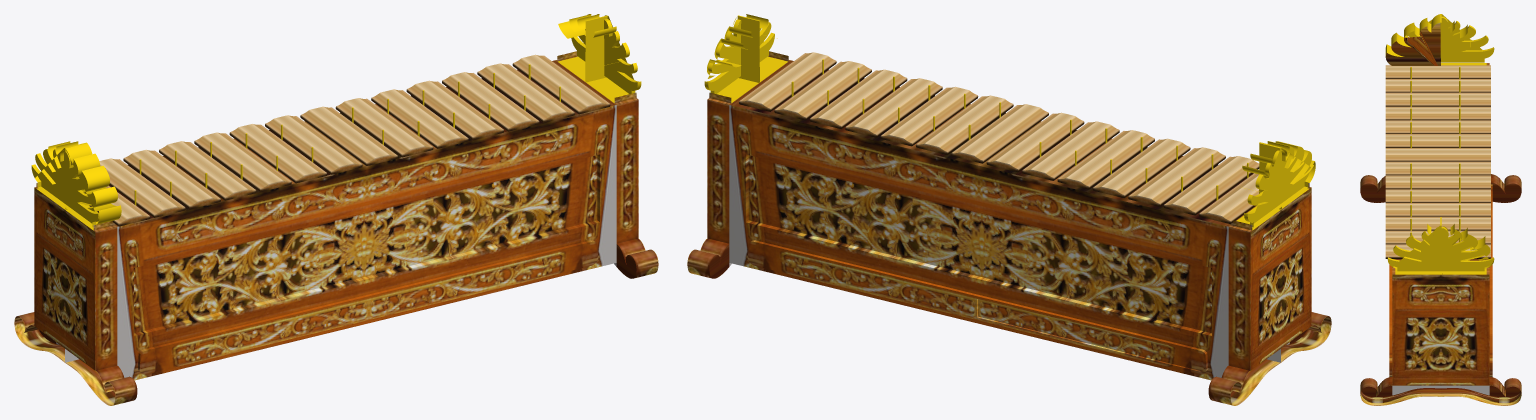
The model's file is gender_barung.glb.
3 views of the same model, side by side, from view 1: azimuth 30°, elevation 25°; view 2: azimuth 150°, elevation 25°; view 3: azimuth 270°, elevation 25° (orthographic). The views are drawn at different scales.
Parts seen in each view (by area): view 1: GenderBarung_02_Slenthem, GenderBarung_03_Slenthem2, GenderBarung_00_Slenthem_1, GenderBarung_04_Slenthem4; view 2: GenderBarung_02_Slenthem, GenderBarung_03_Slenthem2, GenderBarung_00_Slenthem_1, GenderBarung_04_Slenthem4; view 3: GenderBarung_02_Slenthem, GenderBarung_04_Slenthem4, GenderBarung_00_Slenthem_1, GenderBarung_03_Slenthem2.
Part boxes in pixels (<box>): GenderBarung_02_Slenthem: <box>56,54,616,380</box>; GenderBarung_03_Slenthem2: <box>14,51,658,405</box>; GenderBarung_00_Slenthem_1: <box>31,14,641,230</box>; GenderBarung_04_Slenthem4: <box>34,187,95,370</box>; GenderBarung_02_Slenthem: <box>729,52,1289,380</box>; GenderBarung_03_Slenthem2: <box>687,51,1331,405</box>; GenderBarung_00_Slenthem_1: <box>704,14,1315,230</box>; GenderBarung_04_Slenthem4: <box>1250,187,1311,370</box>; GenderBarung_02_Slenthem: <box>1385,65,1492,395</box>; GenderBarung_04_Slenthem4: <box>1392,274,1489,385</box>; GenderBarung_00_Slenthem_1: <box>1385,14,1494,274</box>; GenderBarung_03_Slenthem2: <box>1360,23,1521,405</box>.
Bounding box in the file's own units: 1.44 × 0.5743 × 0.465.
Materials: 4 (3 with a texture image).
